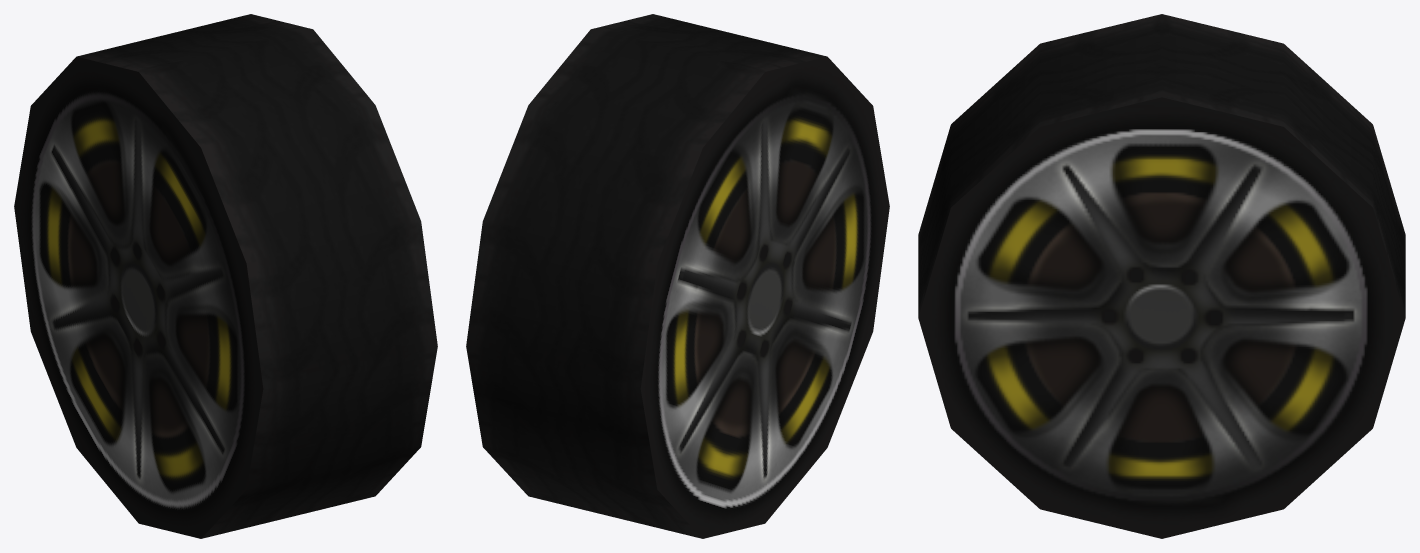
The model's file is car_a2fl.FBX.
The picture shows the model from 3 angles, left to right: view 1: azimuth 30°, elevation 25°; view 2: azimuth 150°, elevation 25°; view 3: azimuth 270°, elevation 25°; orthographic projection. The views are drawn at different scales.
Visible parts, largest first — view 1: car_a2fl; view 2: car_a2fl; view 3: car_a2fl.
Boxes of the visible parts, x1,y1,x2,y2 form: car_a2fl: [14, 14, 437, 538]; car_a2fl: [466, 14, 889, 538]; car_a2fl: [918, 14, 1405, 538].
Size of the model in its own units: 32.58 by 80.58 by 80.58.
